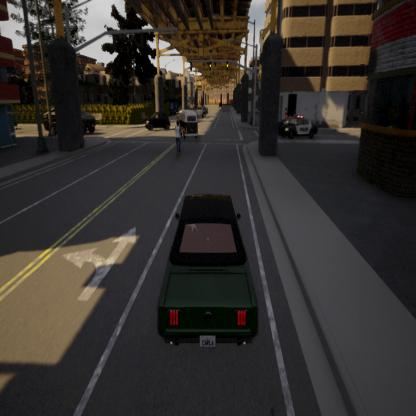Cars: (154, 176, 265, 359), (37, 99, 97, 138), (276, 106, 320, 148), (177, 99, 202, 149), (147, 103, 172, 138), (171, 122, 188, 166)
